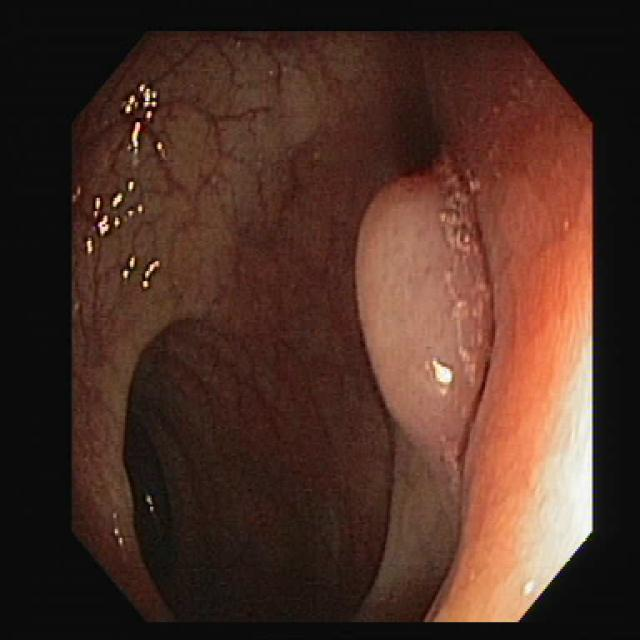tumor: (357, 160, 492, 458)
